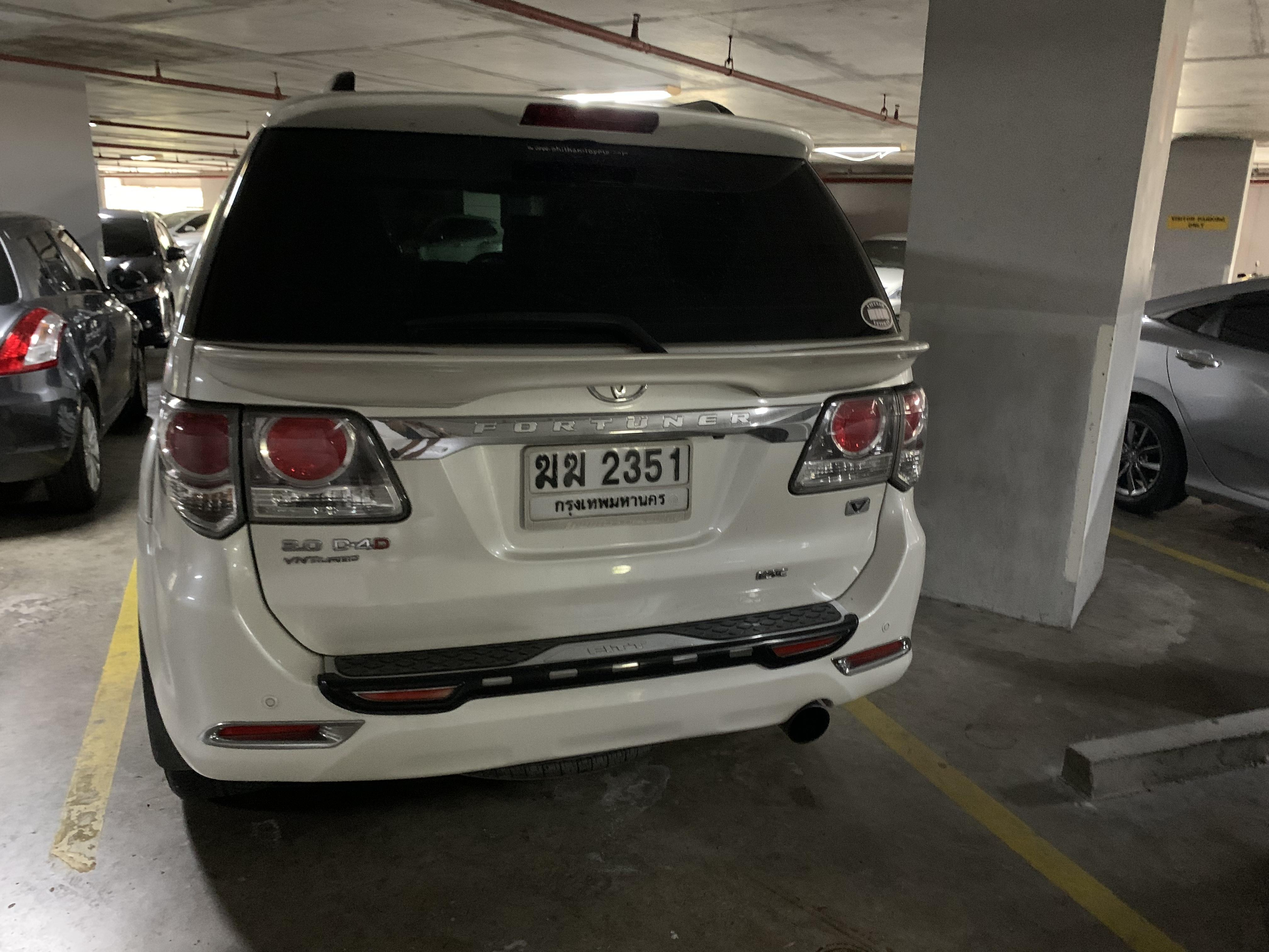license-plate: (518, 438, 698, 526)
